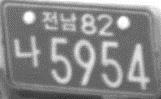2: (97, 11, 114, 38)
4: (125, 42, 149, 93)
5: (98, 39, 124, 90), (48, 36, 72, 85)
8: (79, 12, 97, 36)
9: (71, 38, 95, 85)
나: (12, 33, 41, 68)
전남_O: (41, 10, 78, 33)
